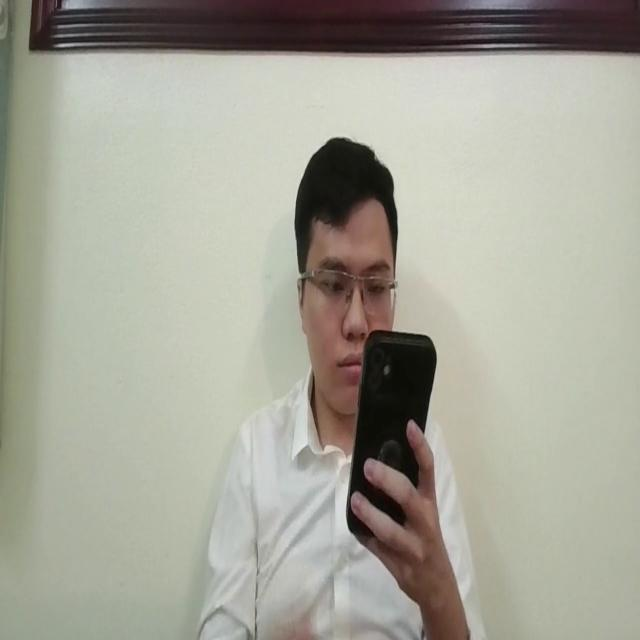phone: (345, 322, 438, 545)
student: (200, 132, 485, 640)
